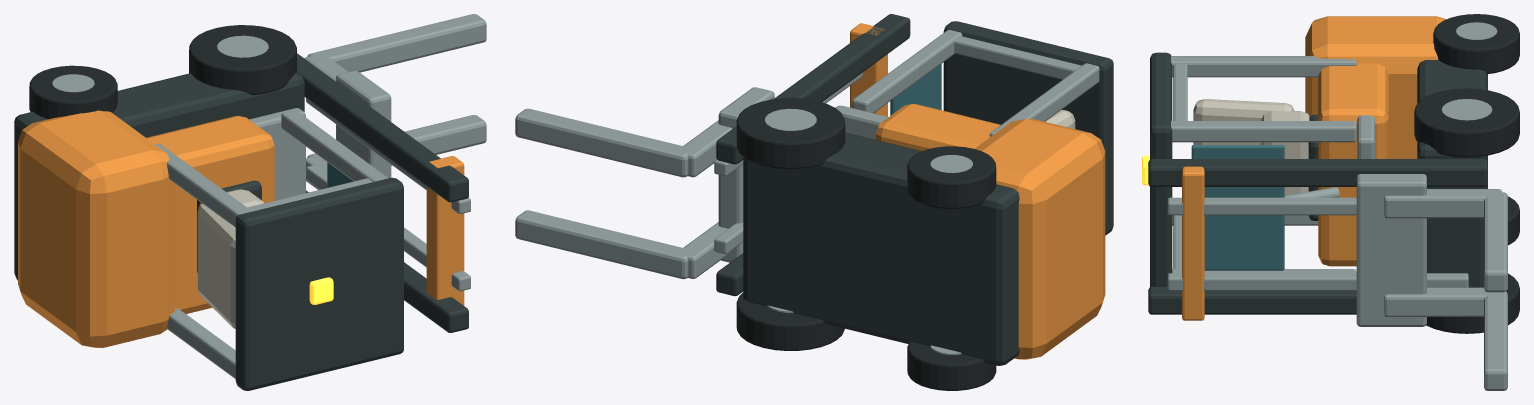
The model's file is forklift.glb.
3 renders of one model, left to right at view 1: azimuth 30°, elevation 25°; view 2: azimuth 150°, elevation 25°; view 3: azimuth 270°, elevation 25°, orthographic. The views are drawn at different scales.
Visible parts, largest first — view 1: forklift_counterweight, forklift_guard_roof, forklift_hood, forklift_chassis, forklift_mast_rail_left, forklift_front_drive_wheel_left, forklift_fork_left, forklift_mast_crossbar, forklift_seat_back, forklift_rear_steer_wheel_left, forklift_guard_front_left, forklift_floor (+13 smaller); view 2: forklift_chassis, forklift_counterweight, forklift_guard_roof, forklift_front_drive_wheel_left, forklift_fork_right, forklift_fork_left, forklift_mast_rail_left, forklift_rear_steer_wheel_left, forklift_hood, forklift_front_drive_wheel_right, forklift_rear_steer_wheel_right, forklift_guard_front_left (+13 smaller); view 3: forklift_counterweight, forklift_carriage, forklift_mast_rail_left, forklift_hood, forklift_windshield, forklift_chassis, forklift_front_drive_wheel_left, forklift_mast_rail_right, forklift_guard_roof, forklift_guard_front_left, forklift_rear_steer_wheel_left, forklift_inner_mast_right (+20 smaller).
Boxes of the visible parts, x1=… form: forklift_counterweight: x1=18, y1=110, x2=174, y2=347; forklift_guard_roof: x1=235, y1=177, x2=403, y2=390; forklift_hood: x1=146, y1=116, x2=274, y2=313; forklift_chassis: x1=14, y1=72, x2=304, y2=280; forklift_mast_rail_left: x1=296, y1=53, x2=468, y2=202; forklift_front_drive_wheel_left: x1=189, y1=25, x2=296, y2=94; forklift_fork_left: x1=307, y1=14, x2=486, y2=72; forklift_mast_crossbar: x1=426, y1=156, x2=464, y2=305; forklift_seat_back: x1=197, y1=203, x2=235, y2=328; forklift_rear_steer_wheel_left: x1=29, y1=65, x2=117, y2=119; forklift_guard_front_left: x1=281, y1=110, x2=388, y2=181; forklift_floor: x1=249, y1=108, x2=305, y2=200; forklift_chassis: x1=743, y1=132, x2=1019, y2=365; forklift_counterweight: x1=974, y1=119, x2=1105, y2=359; forklift_guard_roof: x1=943, y1=21, x2=1113, y2=235; forklift_front_drive_wheel_left: x1=736, y1=98, x2=845, y2=168; forklift_fork_right: x1=515, y1=210, x2=691, y2=279; forklift_fork_left: x1=515, y1=108, x2=688, y2=177; forklift_mast_rail_left: x1=716, y1=14, x2=910, y2=164; forklift_rear_steer_wheel_left: x1=907, y1=146, x2=996, y2=208; forklift_hood: x1=876, y1=104, x2=1000, y2=150; forklift_front_drive_wheel_right: x1=736, y1=292, x2=844, y2=350; forklift_rear_steer_wheel_right: x1=907, y1=341, x2=996, y2=390; forklift_guard_front_left: x1=852, y1=29, x2=962, y2=113; forklift_counterweight: x1=1305, y1=16, x2=1446, y2=158; forklift_carriage: x1=1356, y1=174, x2=1426, y2=326; forklift_mast_rail_left: x1=1148, y1=159, x2=1487, y2=186; forklift_hood: x1=1318, y1=63, x2=1388, y2=266; forklift_windshield: x1=1191, y1=145, x2=1284, y2=270; forklift_chassis: x1=1417, y1=60, x2=1487, y2=286; forklift_front_drive_wheel_left: x1=1414, y1=88, x2=1519, y2=157; forklift_mast_rail_right: x1=1148, y1=286, x2=1483, y2=314; forklift_guard_roof: x1=1150, y1=52, x2=1172, y2=286; forklift_guard_front_left: x1=1171, y1=121, x2=1356, y2=142; forklift_rear_steer_wheel_left: x1=1433, y1=14, x2=1519, y2=74; forklift_inner_mast_right: x1=1167, y1=273, x2=1468, y2=290.
Size of the model in its own units: 1.73 by 0.7 by 1.18.
